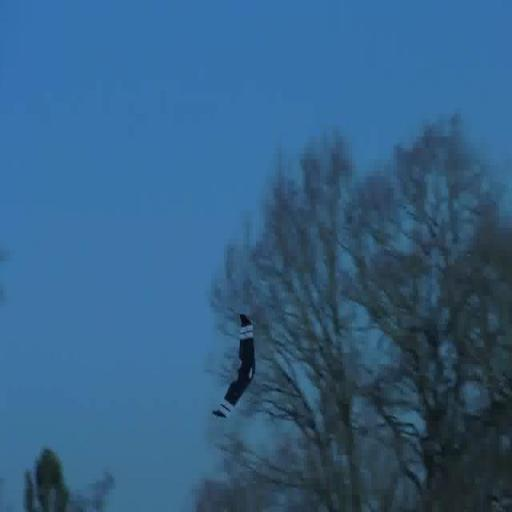uav: (210, 308, 265, 431)
